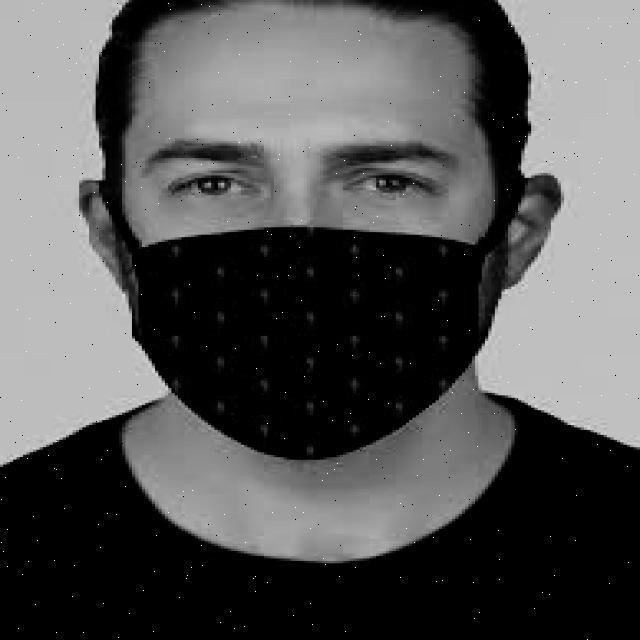fake: (130, 222, 502, 466)
real: (131, 11, 498, 468)
